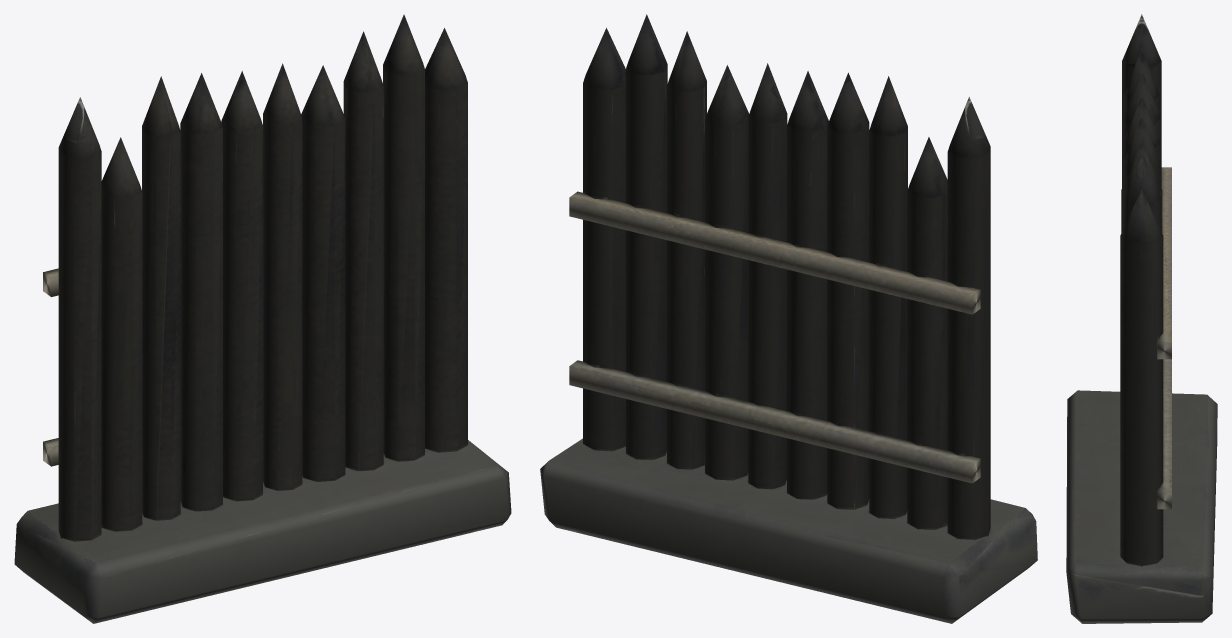
File: palisade_segment.glb
3 views of the same model, side by side, from view 1: azimuth 30°, elevation 25°; view 2: azimuth 150°, elevation 25°; view 3: azimuth 270°, elevation 25° (orthographic). The views are drawn at different scales.
Parts seen in each view (by area): view 1: palisade_segment; view 2: palisade_segment; view 3: palisade_segment.
Boxes of the visible parts, x1,y1,x2,y2 form: palisade_segment: (14,14,511,623); palisade_segment: (540,14,1037,623); palisade_segment: (1066,14,1217,623).
Bounding box in the file's own units: 4.25 × 4.77 × 1.46.
Materials: 1 (1 with a texture image).
